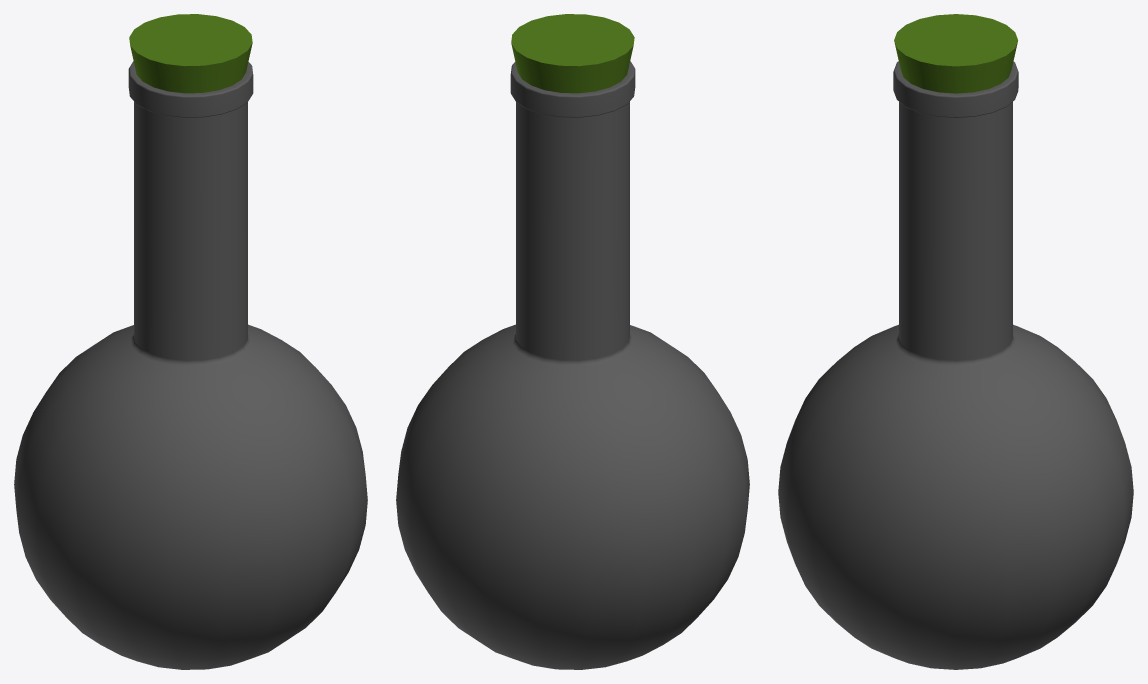
Rendered from Pocion.fbx.
3 views of the same model, side by side, from view 1: azimuth 30°, elevation 25°; view 2: azimuth 150°, elevation 25°; view 3: azimuth 270°, elevation 25° (orthographic).
Parts seen in each view (by area): view 1: pocion01, corchoPocion; view 2: pocion01, corchoPocion; view 3: pocion01, corchoPocion.
Boxes of the visible parts, x1,y1,x2,y2 form: pocion01: (14, 61, 367, 669); corchoPocion: (129, 14, 252, 93); pocion01: (396, 61, 749, 669); corchoPocion: (511, 14, 634, 93); pocion01: (778, 61, 1133, 669); corchoPocion: (894, 14, 1017, 93).
Size of the model in its own units: 1.86 by 3.45 by 1.86.
